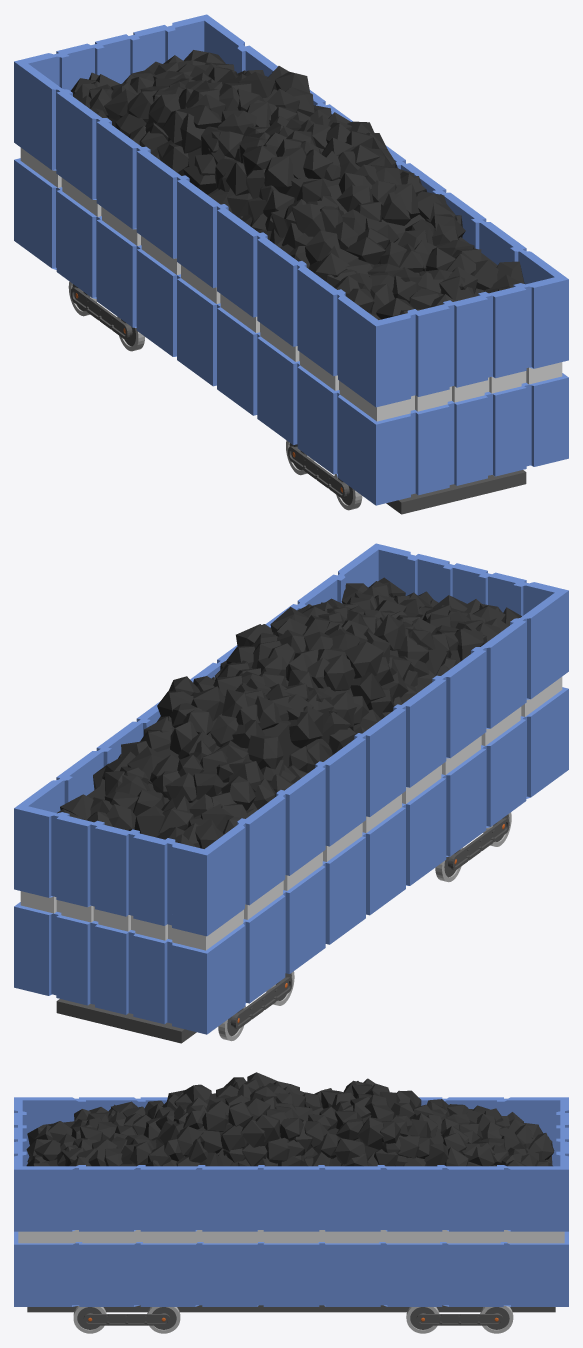
Rendered from charcoal_container.glb.
3 views of the same model, one above another, from view 1: azimuth 30°, elevation 25°; view 2: azimuth 150°, elevation 25°; view 3: azimuth 270°, elevation 25° (orthographic). The views are drawn at different scales.
Parts seen in each view (by area): view 1: Container, Base, WheelConector, Charcoal, Charcoal3.133, Charcoal3.124, Charcoal2.196, Charcoal3.143, Charcoal1.127, Charcoal3.175, Charcoal3.024, Charcoal2.202 (+1 smaller); view 2: Container, Base, WheelConector, Charcoal, Charcoal3.143, Charcoal1.127, Charcoal1.179, Charcoal3.139, Charcoal2.203, Charcoal3.207, Charcoal3.136, Charcoal1.032 (+6 smaller); view 3: Container, Base, WheelConector, Charcoal, Charcoal1.146, Charcoal1.149, Wheel_6, Wheel_3, Wheel_2, Wheel_7, Charcoal1.153, Charcoal1.155 (+22 smaller).
Boxes of the visible parts, x1=… form: Container: x1=14, y1=14, x2=568, y2=505; Base: x1=386, y1=470, x2=526, y2=514; WheelConector: x1=71, y1=287, x2=346, y2=498; Charcoal: x1=109, y1=89, x2=497, y2=319; Charcoal3.133: x1=264, y1=156, x2=294, y2=194; Charcoal3.124: x1=292, y1=203, x2=325, y2=236; Charcoal2.196: x1=305, y1=230, x2=340, y2=264; Charcoal3.143: x1=148, y1=94, x2=180, y2=129; Charcoal1.127: x1=242, y1=145, x2=277, y2=175; Charcoal3.175: x1=381, y1=192, x2=410, y2=225; Charcoal3.024: x1=345, y1=237, x2=385, y2=264; Charcoal2.202: x1=336, y1=185, x2=373, y2=211; Container: x1=14, y1=543, x2=568, y2=1034; Base: x1=56, y1=999, x2=196, y2=1043; WheelConector: x1=233, y1=818, x2=509, y2=1029; Charcoal: x1=87, y1=632, x2=460, y2=810; Charcoal3.143: x1=247, y1=735, x2=283, y2=769; Charcoal1.127: x1=344, y1=641, x2=383, y2=678; Charcoal1.179: x1=323, y1=654, x2=355, y2=691; Charcoal3.139: x1=288, y1=712, x2=322, y2=748; Charcoal2.203: x1=373, y1=614, x2=405, y2=650; Charcoal3.207: x1=191, y1=686, x2=225, y2=720; Charcoal3.136: x1=350, y1=672, x2=385, y2=704; Charcoal1.032: x1=134, y1=805, x2=164, y2=837; Container: x1=14, y1=1097, x2=568, y2=1306; Base: x1=27, y1=1305, x2=555, y2=1312; WheelConector: x1=83, y1=1314, x2=503, y2=1325; Charcoal: x1=44, y1=1093, x2=538, y2=1166; Charcoal1.146: x1=357, y1=1117, x2=383, y2=1149; Charcoal1.149: x1=334, y1=1138, x2=365, y2=1164; Wheel_6: x1=480, y1=1306, x2=513, y2=1333; Wheel_3: x1=73, y1=1306, x2=106, y2=1333; Wheel_2: x1=147, y1=1307, x2=180, y2=1333; Wheel_7: x1=406, y1=1307, x2=439, y2=1333; Charcoal1.153: x1=265, y1=1137, x2=289, y2=1163; Charcoal1.155: x1=221, y1=1125, x2=246, y2=1150.
Size of the model in its own units: 3.38 by 4.71 by 10.98.
